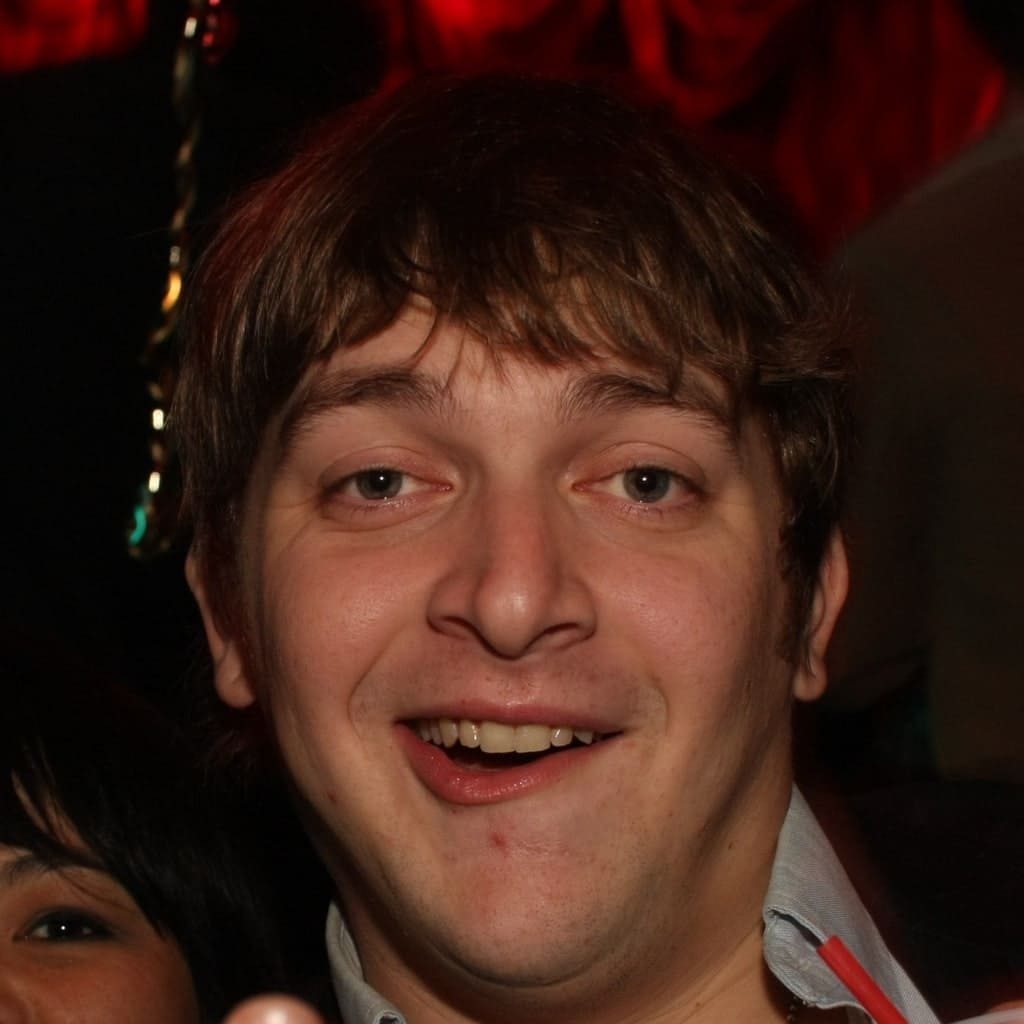without_mask: (262, 274, 808, 965)
